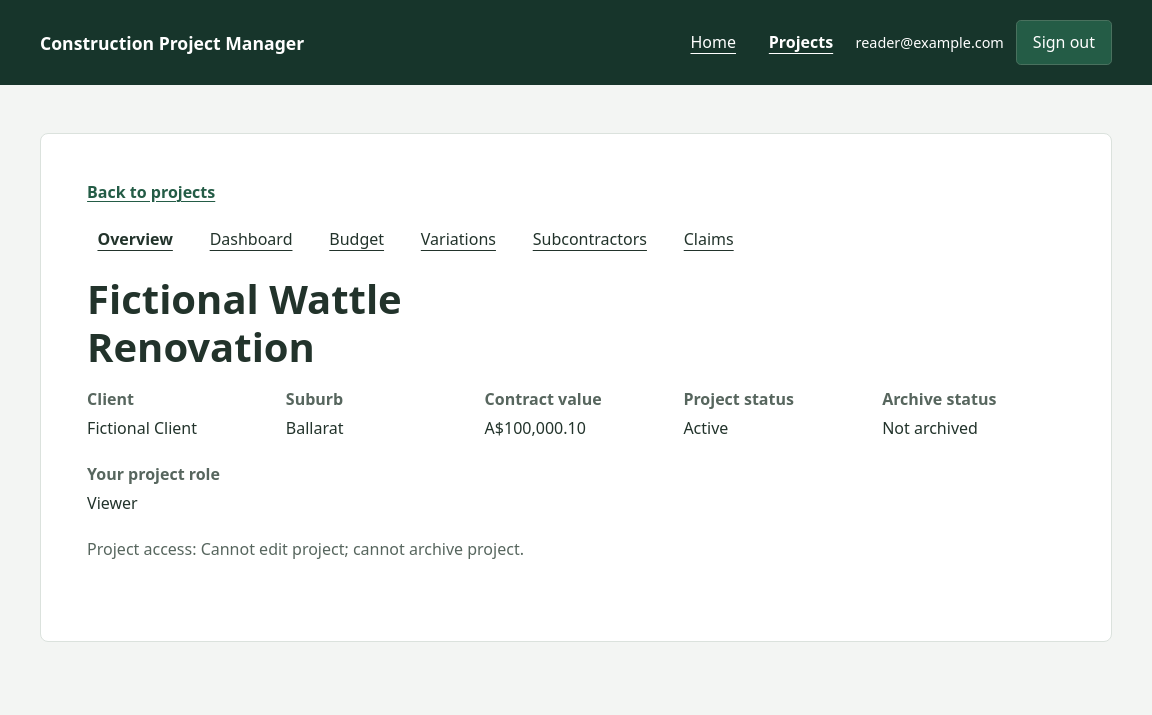
it: module access and navigation › links project detail to implemented modules and navigates Dashboard and Budget
Check: the heading "Fictional Wattle Renovation" is shown, box [87,271,402,374]
Click the link "Dashboard" at (251, 240), box [210,228,292,250]
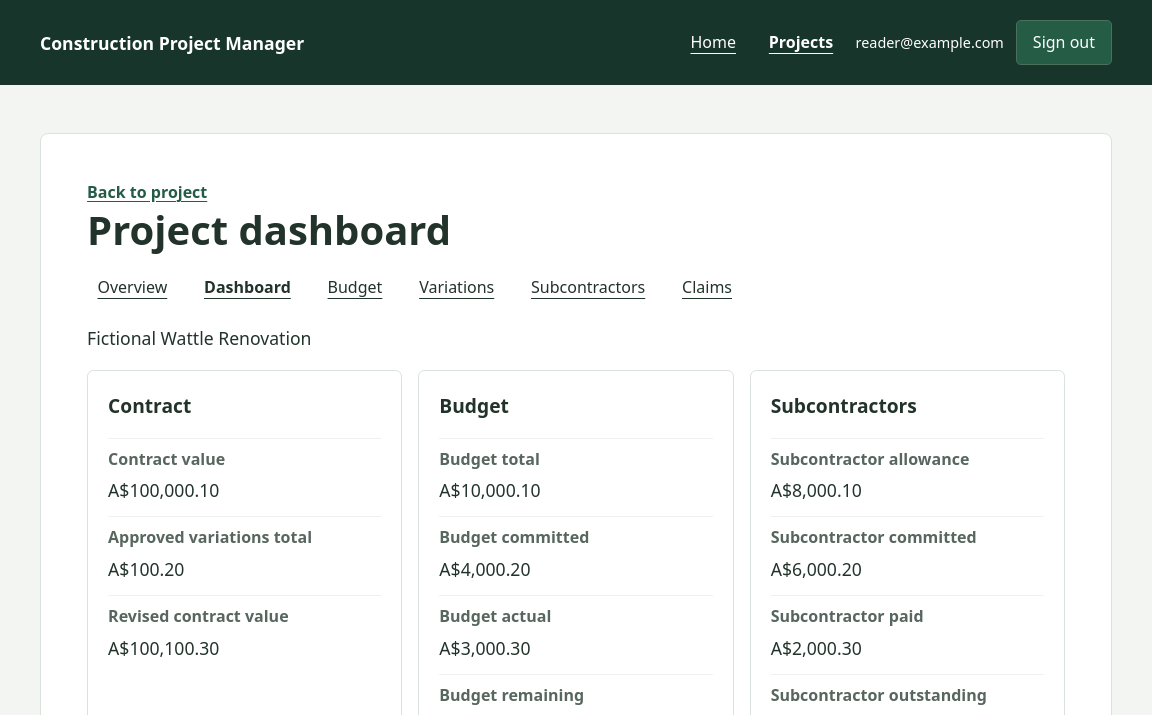
Click the link "Back to project" at (147, 192), box [87,181,207,203]
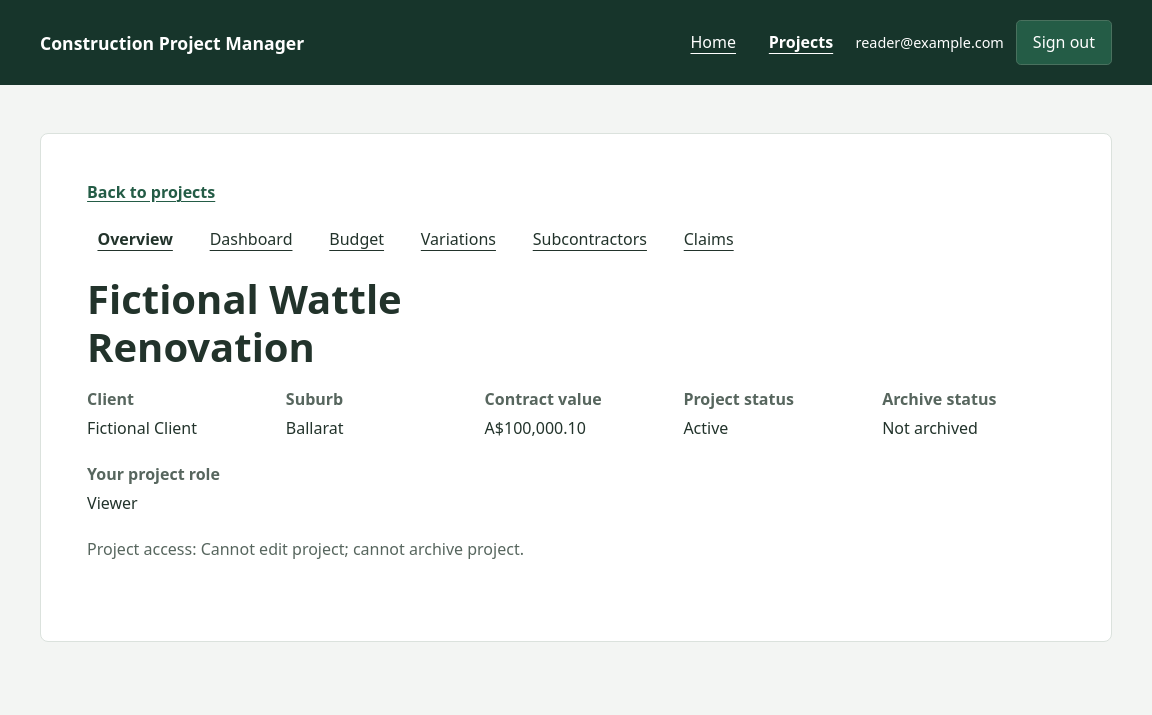
Check: the heading "Fictional Wattle Renovation" is shown, box [87,271,402,374]
Click the link "Budget" at (357, 240), box [329,228,384,250]
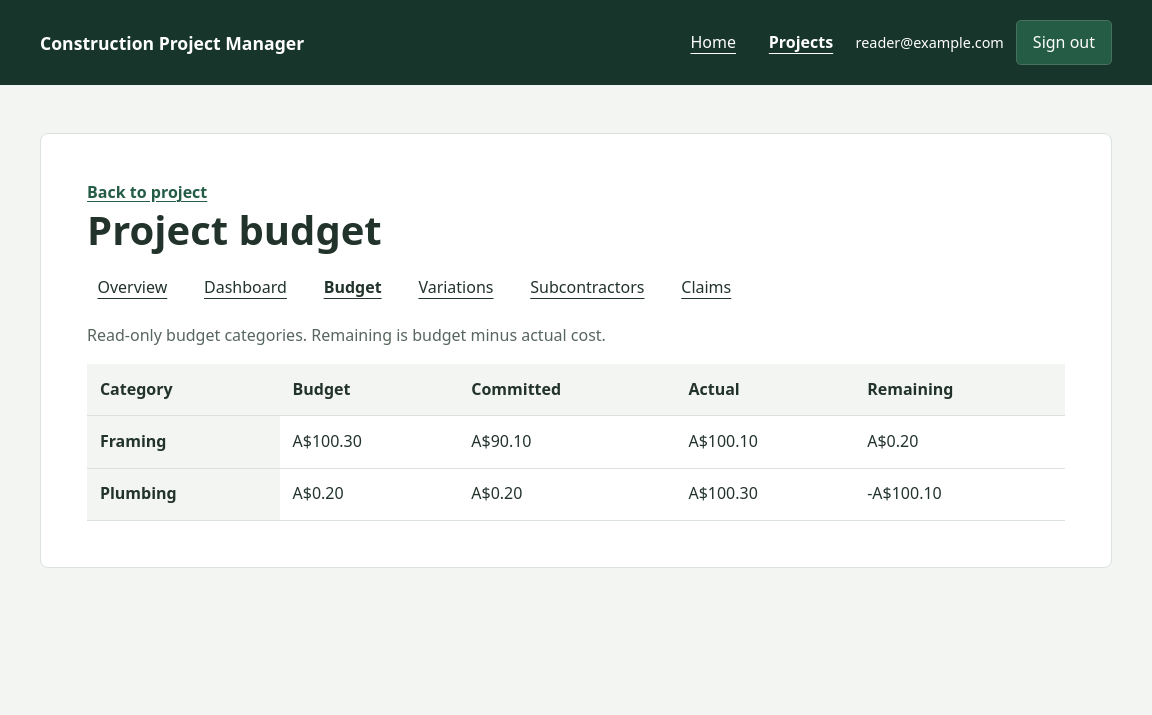
Check: the table is shown, box [87,364,1065,521]
